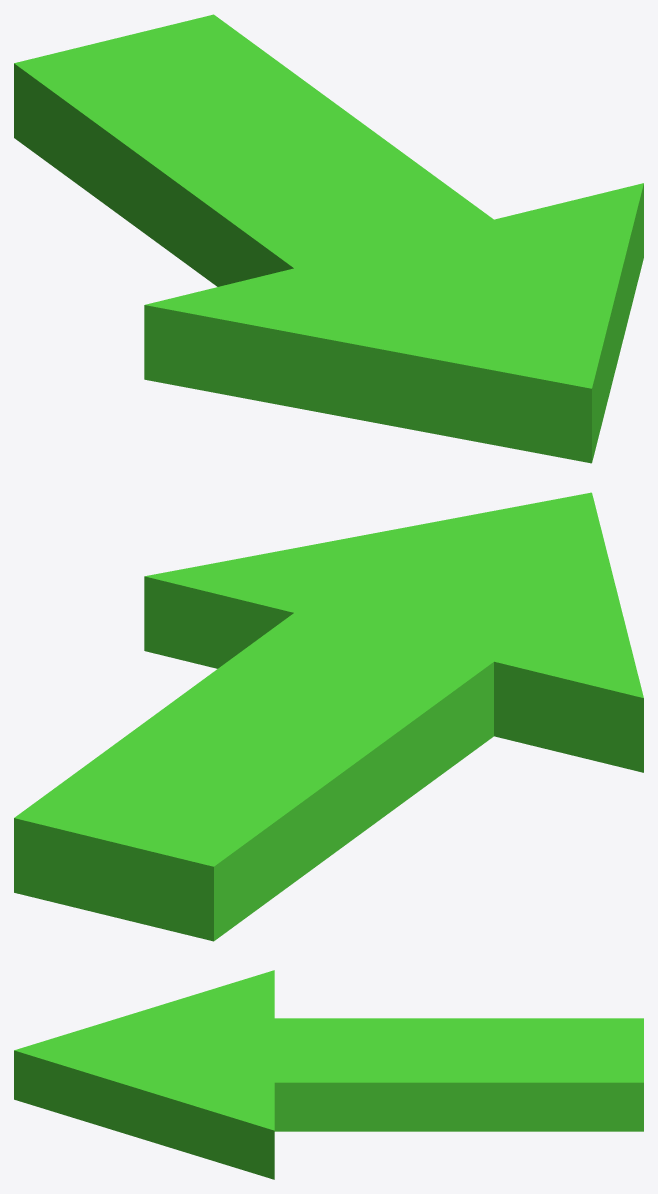
File: arrow_green_3mUp.glb
3 renders of one model, top to bottom at view 1: azimuth 30°, elevation 25°; view 2: azimuth 150°, elevation 25°; view 3: azimuth 270°, elevation 25°, orthographic. The views are drawn at different scales.
Visible parts, largest first — view 1: Arrow; view 2: Arrow; view 3: Arrow.
Part boxes in pixels (x1=…): Arrow: x1=14, y1=14, x2=643, y2=463; Arrow: x1=14, y1=492, x2=643, y2=941; Arrow: x1=14, y1=970, x2=643, y2=1179.
Size of the model in its own units: 3.5 by 0.5 by 5.8.
